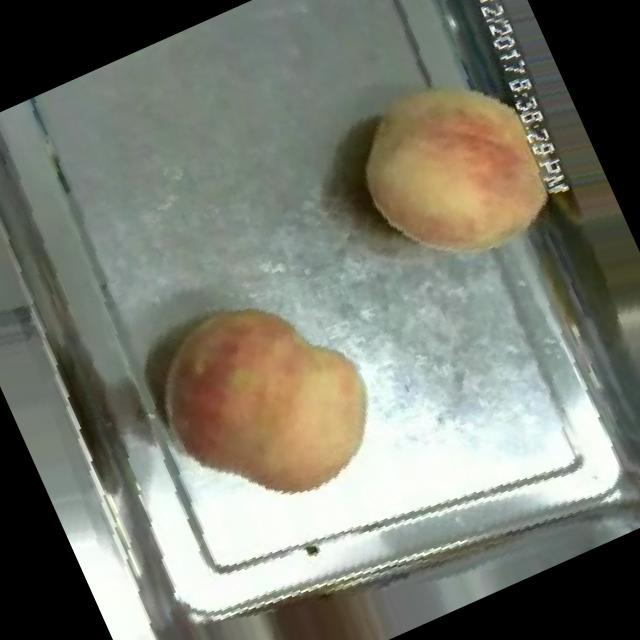Fruit: (120, 252, 412, 548), (324, 37, 588, 305), (110, 516, 427, 640)
